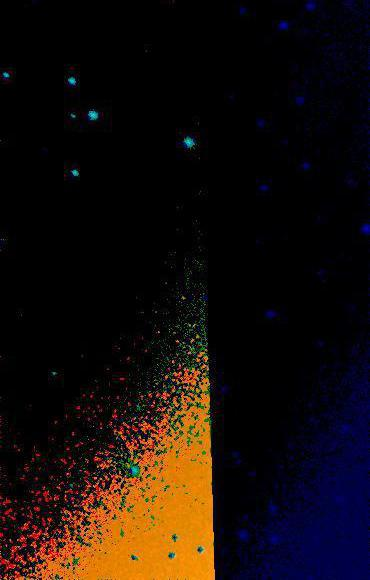star: (26, 255, 56, 285)
